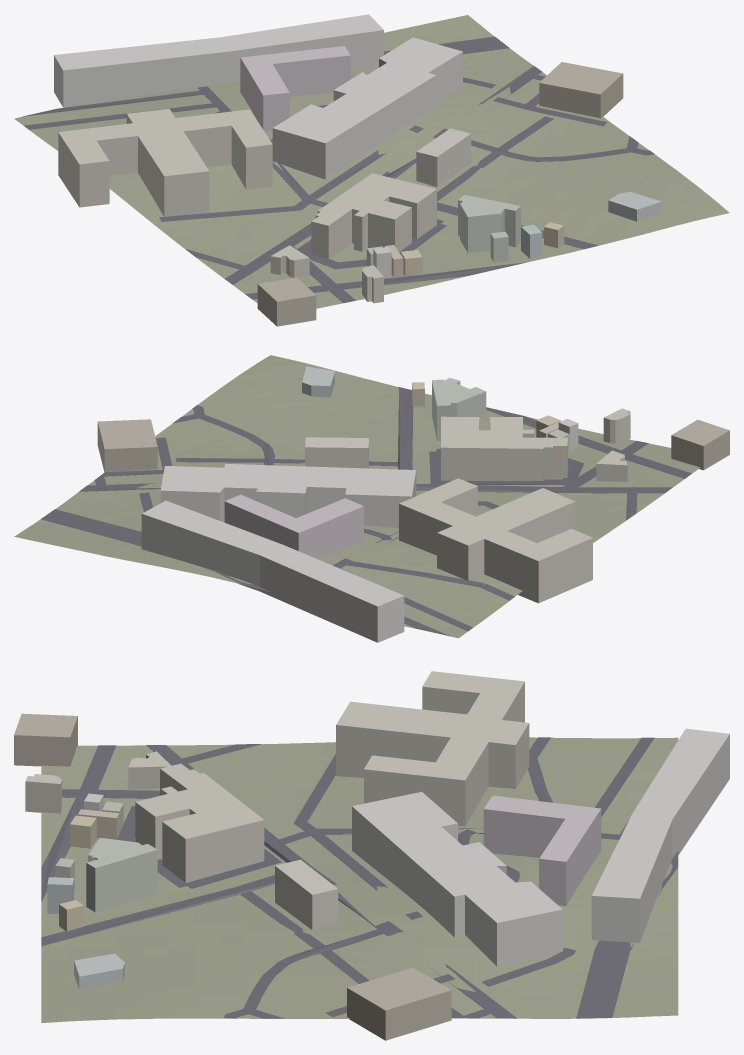
File: chunk_8_0.glb
3 views of the same model, one above another, from view 1: azimuth 30°, elevation 25°; view 2: azimuth 150°, elevation 25°; view 3: azimuth 270°, elevation 25° (orthographic). The views are drawn at different scales.
Visible parts, largest first — view 1: geometry_19, geometry_1, geometry_14, geometry_2, geometry_17, geometry_0, geometry_3, geometry_15, geometry_16, geometry_4, geometry_13, geometry_20 (+17 smaller); view 2: geometry_19, geometry_1, geometry_14, geometry_2, geometry_17, geometry_0, geometry_3, geometry_4, geometry_16, geometry_15, geometry_25, geometry_27 (+11 smaller); view 3: geometry_19, geometry_1, geometry_2, geometry_14, geometry_17, geometry_0, geometry_3, geometry_15, geometry_16, geometry_4, geometry_25, geometry_27 (+19 smaller).
Part boxes in pixels (x1=…): geometry_19: x1=14, y1=15, x2=729, y2=308; geometry_1: x1=58, y1=108, x2=272, y2=216; geometry_14: x1=54, y1=14, x2=383, y2=107; geometry_2: x1=272, y1=37, x2=462, y2=179; geometry_17: x1=311, y1=173, x2=436, y2=258; geometry_0: x1=240, y1=46, x2=350, y2=131; geometry_3: x1=539, y1=62, x2=623, y2=118; geometry_15: x1=458, y1=194, x2=520, y2=252; geometry_16: x1=416, y1=128, x2=471, y2=187; geometry_4: x1=257, y1=277, x2=316, y2=326; geometry_13: x1=608, y1=192, x2=661, y2=221; geometry_20: x1=279, y1=66, x2=542, y2=246; geometry_19: x1=14, y1=355, x2=700, y2=638; geometry_1: x1=399, y1=478, x2=592, y2=603; geometry_14: x1=141, y1=500, x2=404, y2=642; geometry_2: x1=160, y1=464, x2=416, y2=527; geometry_17: x1=441, y1=416, x2=567, y2=480; geometry_0: x1=224, y1=494, x2=363, y2=559; geometry_3: x1=97, y1=419, x2=157, y2=472; geometry_4: x1=671, y1=419, x2=729, y2=470; geometry_16: x1=305, y1=437, x2=368, y2=468; geometry_15: x1=432, y1=379, x2=479, y2=440; geometry_25: x1=41, y1=509, x2=270, y2=592; geometry_27: x1=398, y1=387, x2=413, y2=469; geometry_19: x1=41, y1=737, x2=678, y2=1022; geometry_1: x1=336, y1=671, x2=529, y2=826; geometry_2: x1=352, y1=791, x2=562, y2=966; geometry_14: x1=591, y1=728, x2=729, y2=942; geometry_17: x1=135, y1=763, x2=264, y2=882; geometry_0: x1=483, y1=795, x2=601, y2=906; geometry_3: x1=347, y1=967, x2=451, y2=1040; geometry_15: x1=86, y1=838, x2=157, y2=912; geometry_16: x1=275, y1=859, x2=338, y2=929; geometry_4: x1=14, y1=713, x2=77, y2=766; geometry_25: x1=576, y1=851, x2=678, y2=1018; geometry_27: x1=41, y1=875, x2=274, y2=946.
Bounding box in the file's own units: 289 × 27.24 × 281.
